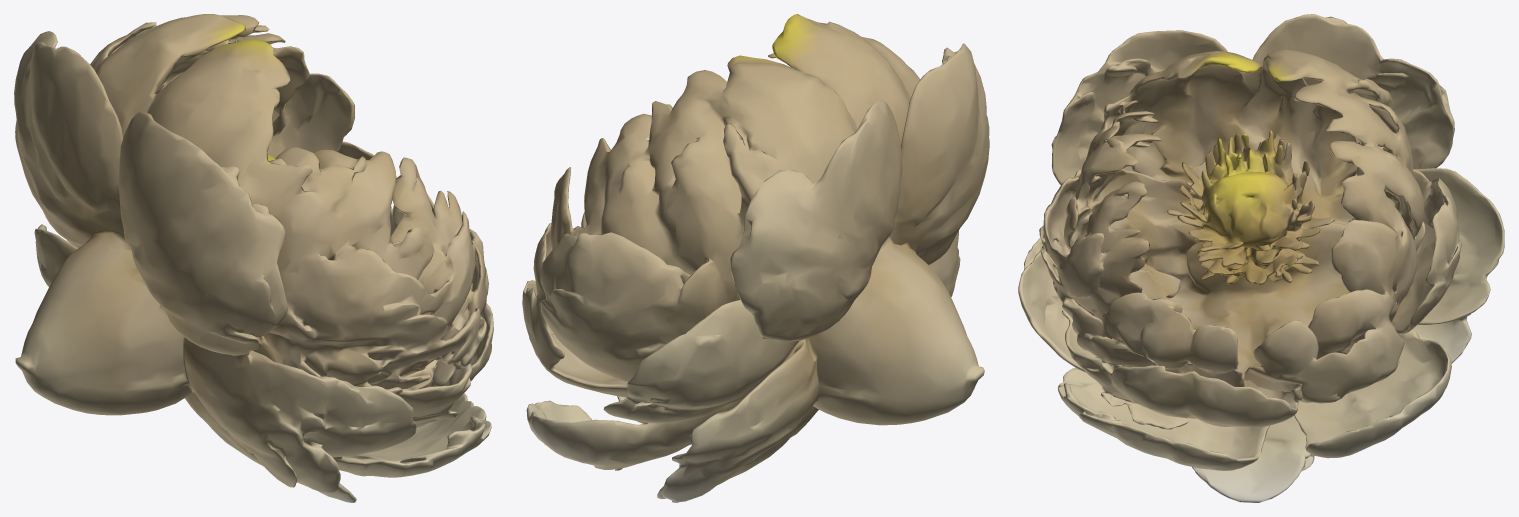
The model's file is peony_ivory.glb.
3 views of the same model, side by side, from view 1: azimuth 30°, elevation 25°; view 2: azimuth 150°, elevation 25°; view 3: azimuth 270°, elevation 25° (orthographic). The views are drawn at different scales.
Parts seen in each view (by area): view 1: node0; view 2: node0; view 3: node0.
Part boxes in pixels (bbox=[...]): node0: bbox=[14, 14, 493, 502]; node0: bbox=[522, 14, 989, 502]; node0: bbox=[1018, 14, 1504, 502].
Bounding box in the file's own units: 0.7886 × 0.8738 × 0.9496.
